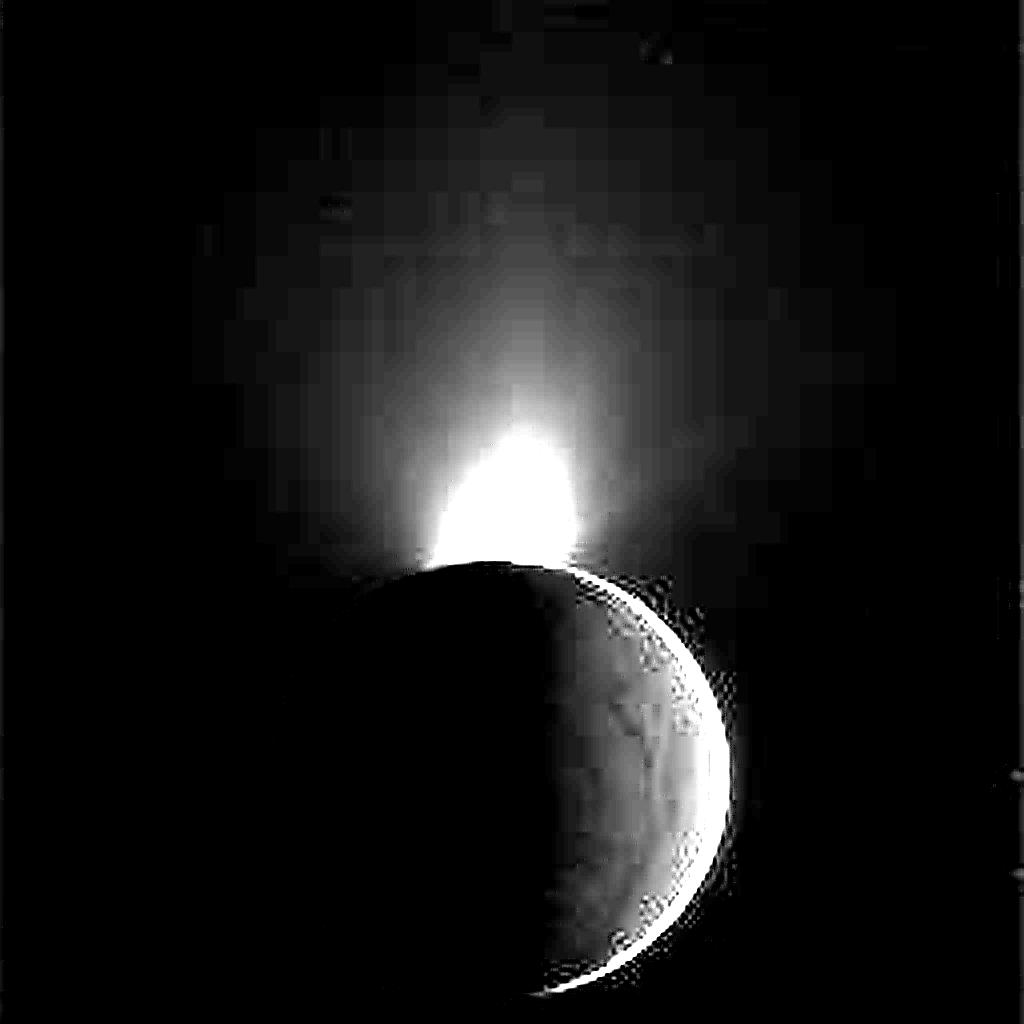plumes: (426, 425, 574, 570)
